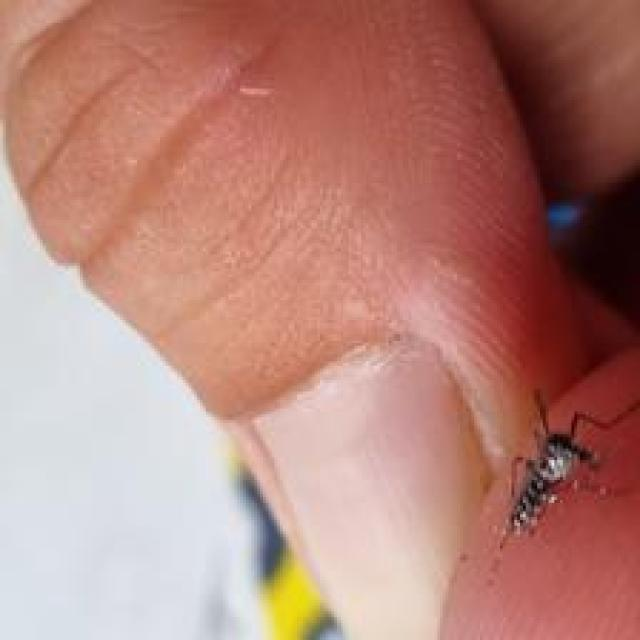Aedes albopictus: (497, 381, 640, 550)
